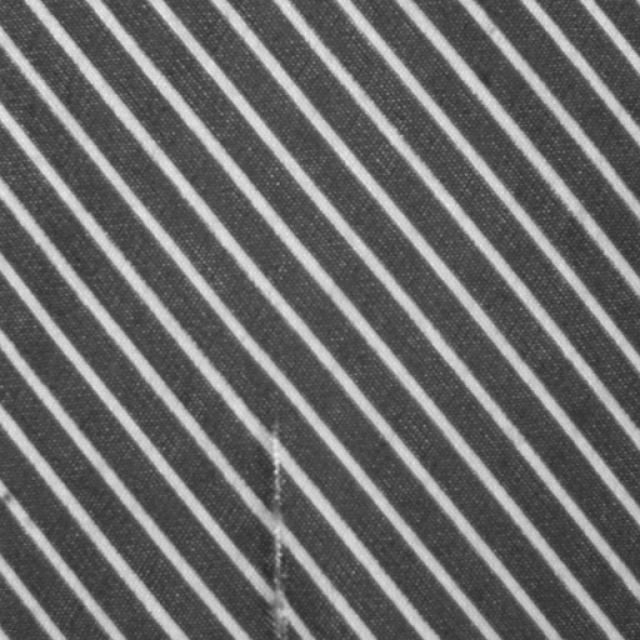Thread-Defect: (262, 424, 306, 639)
